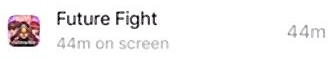name: (52, 5, 168, 31)
time: (55, 35, 94, 52)
